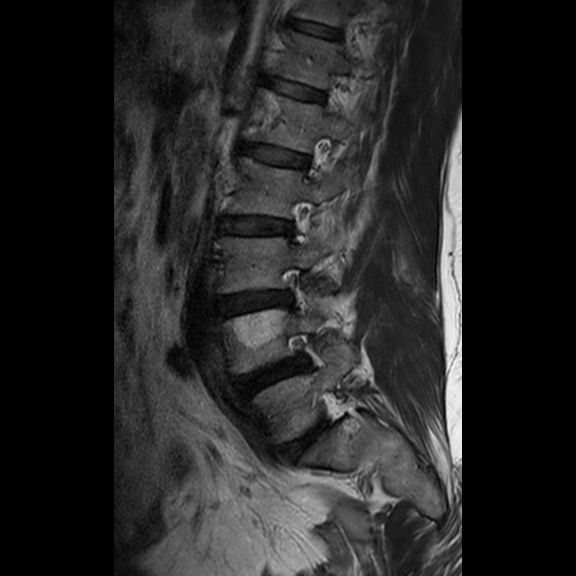RFS0: (291, 125, 336, 189), (275, 189, 320, 252)
RFS1: (283, 321, 335, 378), (273, 259, 316, 318)
